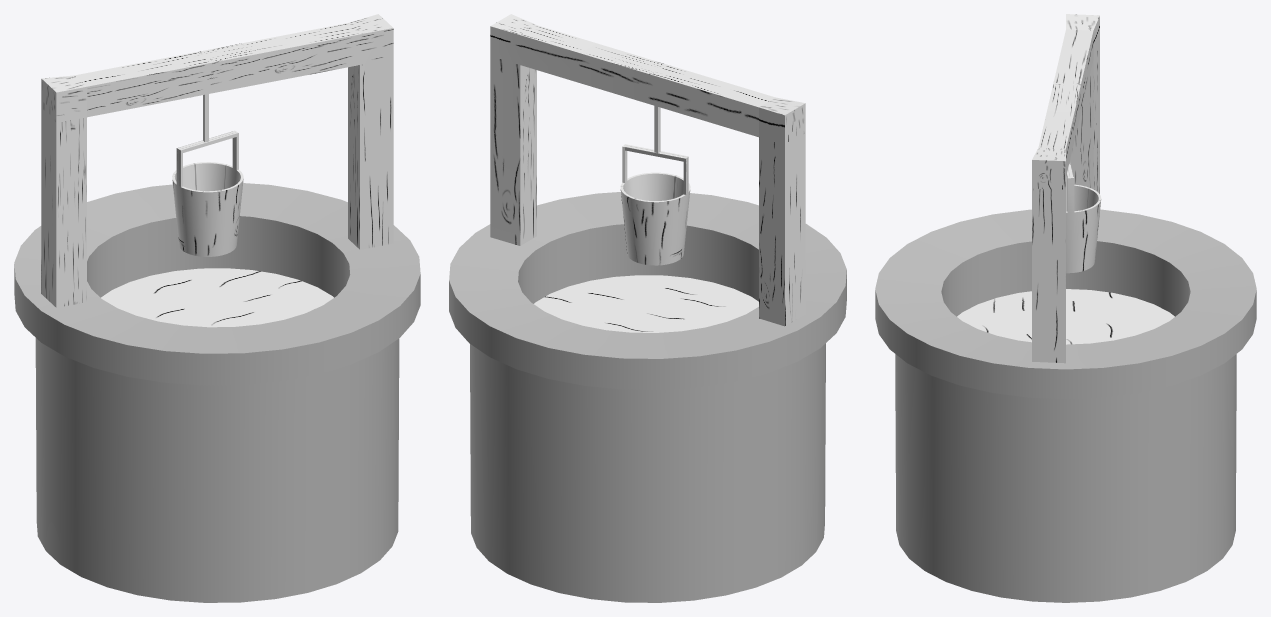
File: puit.obj
3 renders of one model, left to right at view 1: azimuth 30°, elevation 25°; view 2: azimuth 150°, elevation 25°; view 3: azimuth 270°, elevation 25°, orthographic. The views are drawn at different scales.
Visible parts, largest first — view 1: Cylinder; view 2: Cylinder; view 3: Cylinder.
Boxes of the visible parts, x1=… form: Cylinder: x1=14, y1=14, x2=420, y2=602; Cylinder: x1=449, y1=14, x2=846, y2=602; Cylinder: x1=875, y1=14, x2=1256, y2=602.
Size of the model in its own units: 1.29 by 1.66 by 1.29.
